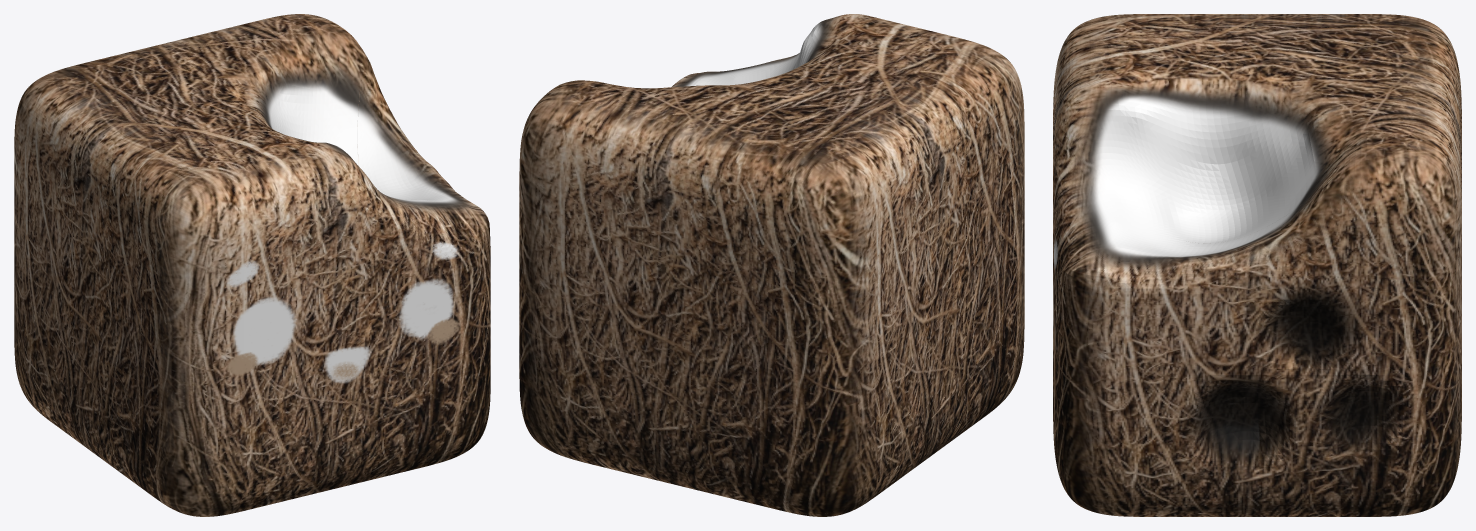
File: Coconut.glb
3 renders of one model, left to right at view 1: azimuth 30°, elevation 25°; view 2: azimuth 150°, elevation 25°; view 3: azimuth 270°, elevation 25°, orthographic. The views are drawn at different scales.
Parts seen in each view (by area): view 1: 상자_1_상자; view 2: 상자_1_상자; view 3: 상자_1_상자.
Part boxes in pixels (x1,y1,x2,y2): 상자_1_상자: [14, 14, 490, 516]; 상자_1_상자: [519, 14, 1024, 516]; 상자_1_상자: [1053, 14, 1461, 516].
Size of the model in its own units: 1 by 1 by 1.
1 material, 1 textured.
